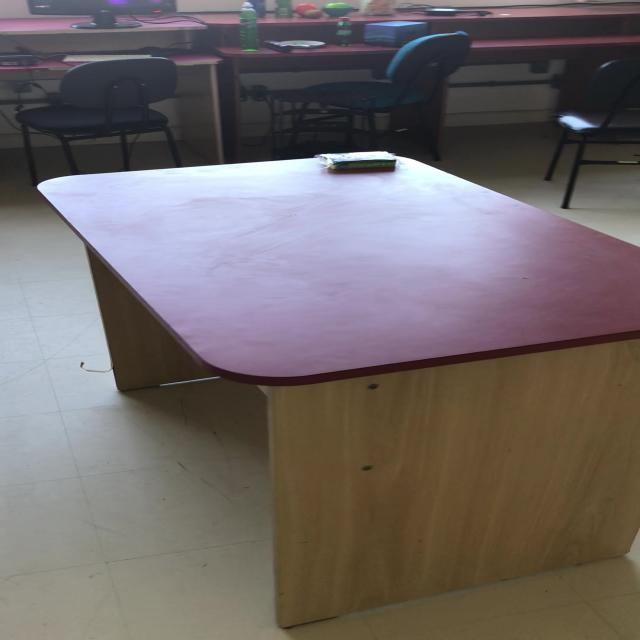sponge: (313, 150, 397, 170), (327, 159, 397, 170)
